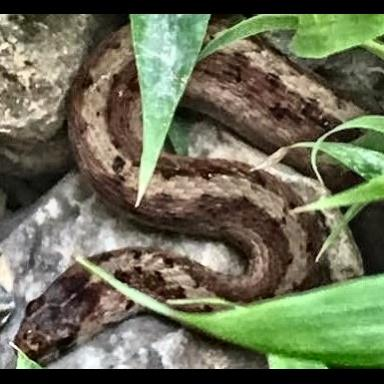snake: (66, 16, 384, 305), (14, 261, 143, 365)
